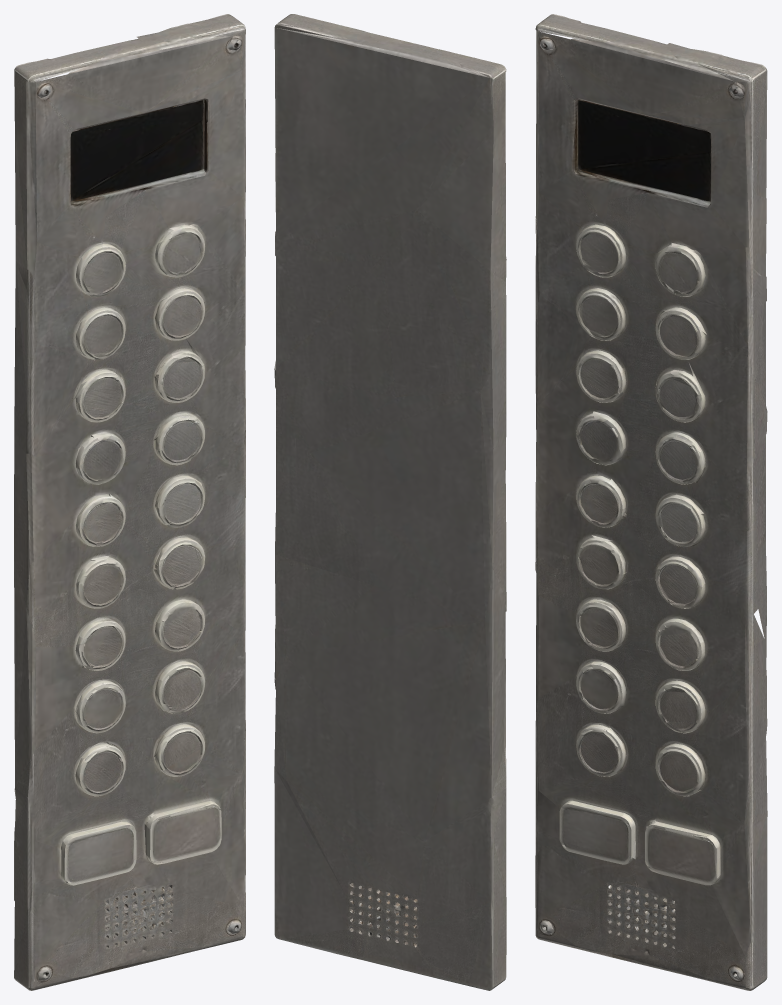
The model's file is w5liftpanel.glb.
3 views of the same model, side by side, from view 1: azimuth 30°, elevation 25°; view 2: azimuth 150°, elevation 25°; view 3: azimuth 330°, elevation 25° (orthographic).
Visible parts, largest first — view 1: output_unwrapped; view 2: output_unwrapped; view 3: output_unwrapped.
Boxes of the visible parts, left/top/right/bottom form: output_unwrapped: left=14, top=14, right=245, bottom=990; output_unwrapped: left=274, top=14, right=506, bottom=990; output_unwrapped: left=535, top=14, right=767, bottom=990.
Bounding box in the file's own units: 0.2737 × 1.1 × 0.0449.
Materials: 1 (1 with a texture image).
